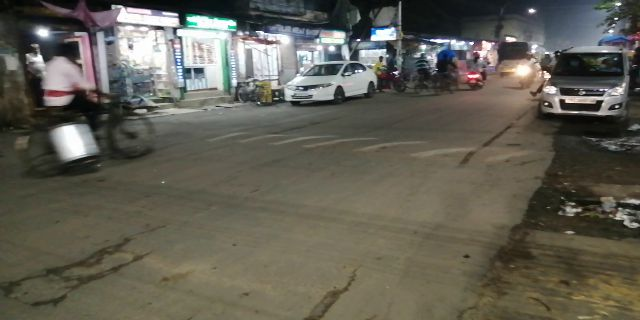Car: (538, 47, 628, 121), (282, 59, 378, 103)
Cycle: (8, 45, 165, 164)
